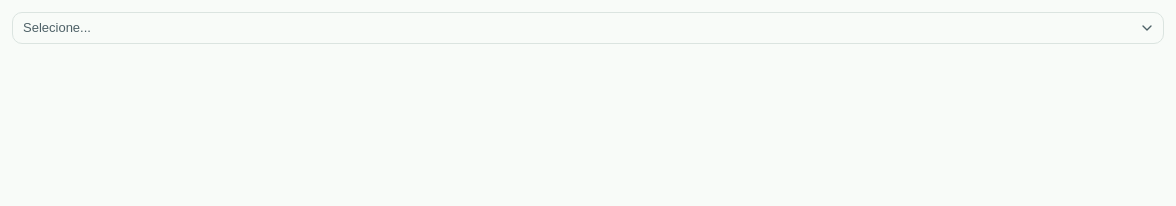
Test case: Select Component com Busca por Padrão › exibe o campo de busca por padrão ao abrir o dropdown e filtra itens sem distinção de acentos
Click the dropdown.
click(57, 27)  # box x1=12 y1=12 x2=1164 y2=44
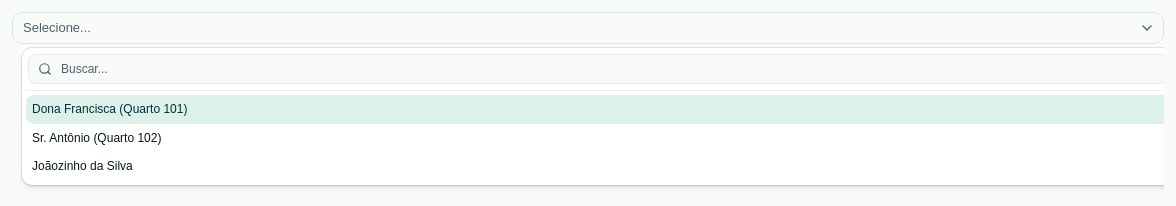
expect the text "Dona Francisca (Quarto 101)" is shown: met, box x1=32 y1=101 x2=187 y2=118
expect the text "Sr. Antônio (Quarto 102)" is shown: met, box x1=32 y1=130 x2=161 y2=146
# Filtra digitando "antonio" (sem acento, o item original é Antônio)
Type "antonio" into the field with placeholder "Buscar...".
click(596, 69); type("antonio")  # box x1=28 y1=54 x2=1164 y2=84
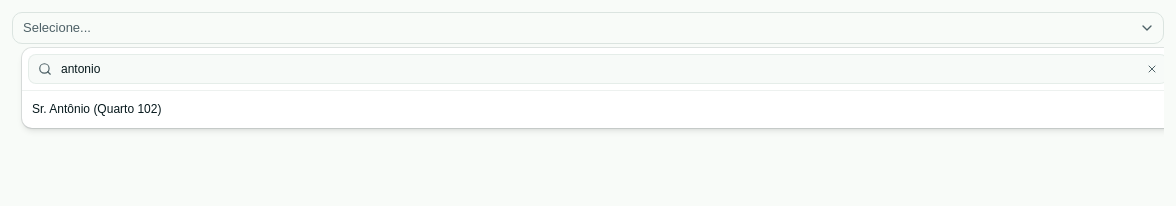
expect the text "Sr. Antônio (Quarto 102)" is shown: met, box x1=32 y1=101 x2=161 y2=118
expect the option "Dona Francisca (Quarto 101)" is gone: met
